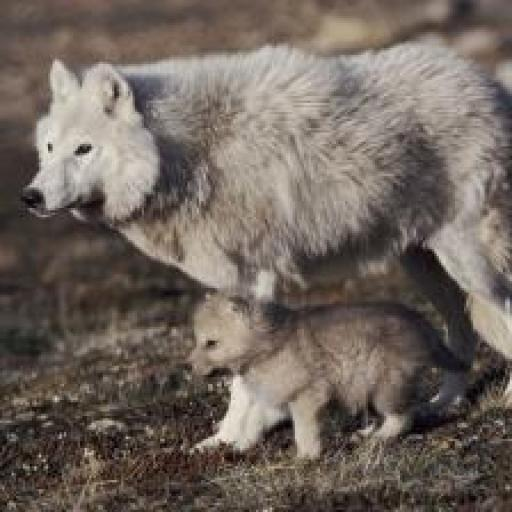wolf: (0, 30, 512, 321)
